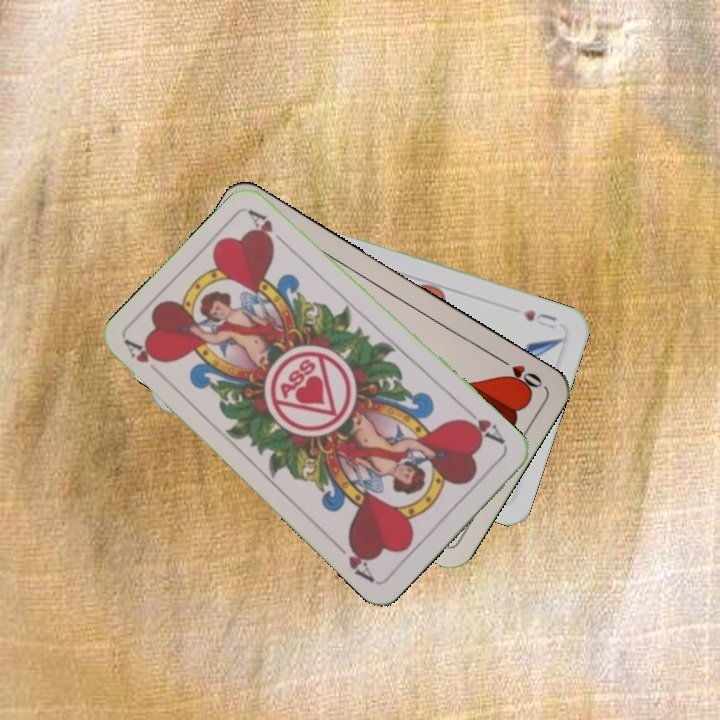HA: (456, 404, 508, 448), (121, 336, 169, 367)
HO: (493, 353, 545, 394)
HU: (519, 305, 560, 332)
